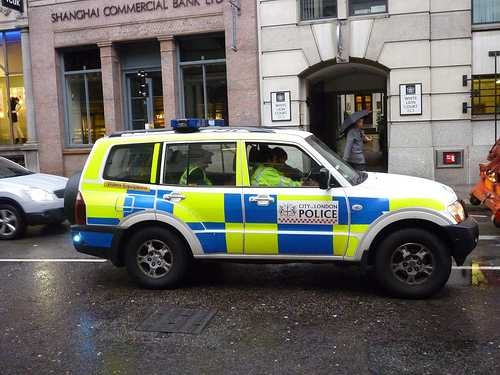Police Van: (59, 109, 481, 294)
